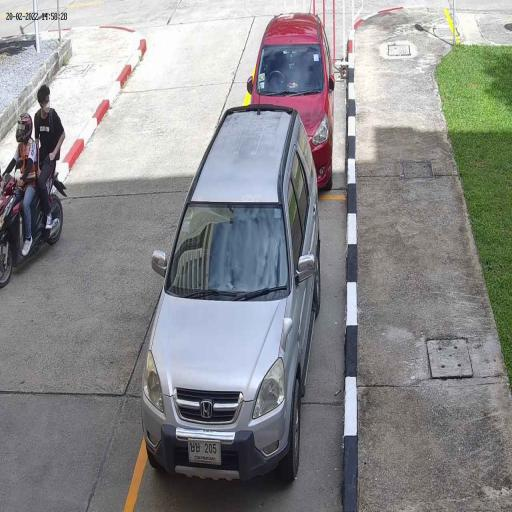car: (141, 103, 322, 494), (248, 10, 336, 189)
motorcycle: (0, 170, 65, 291)
